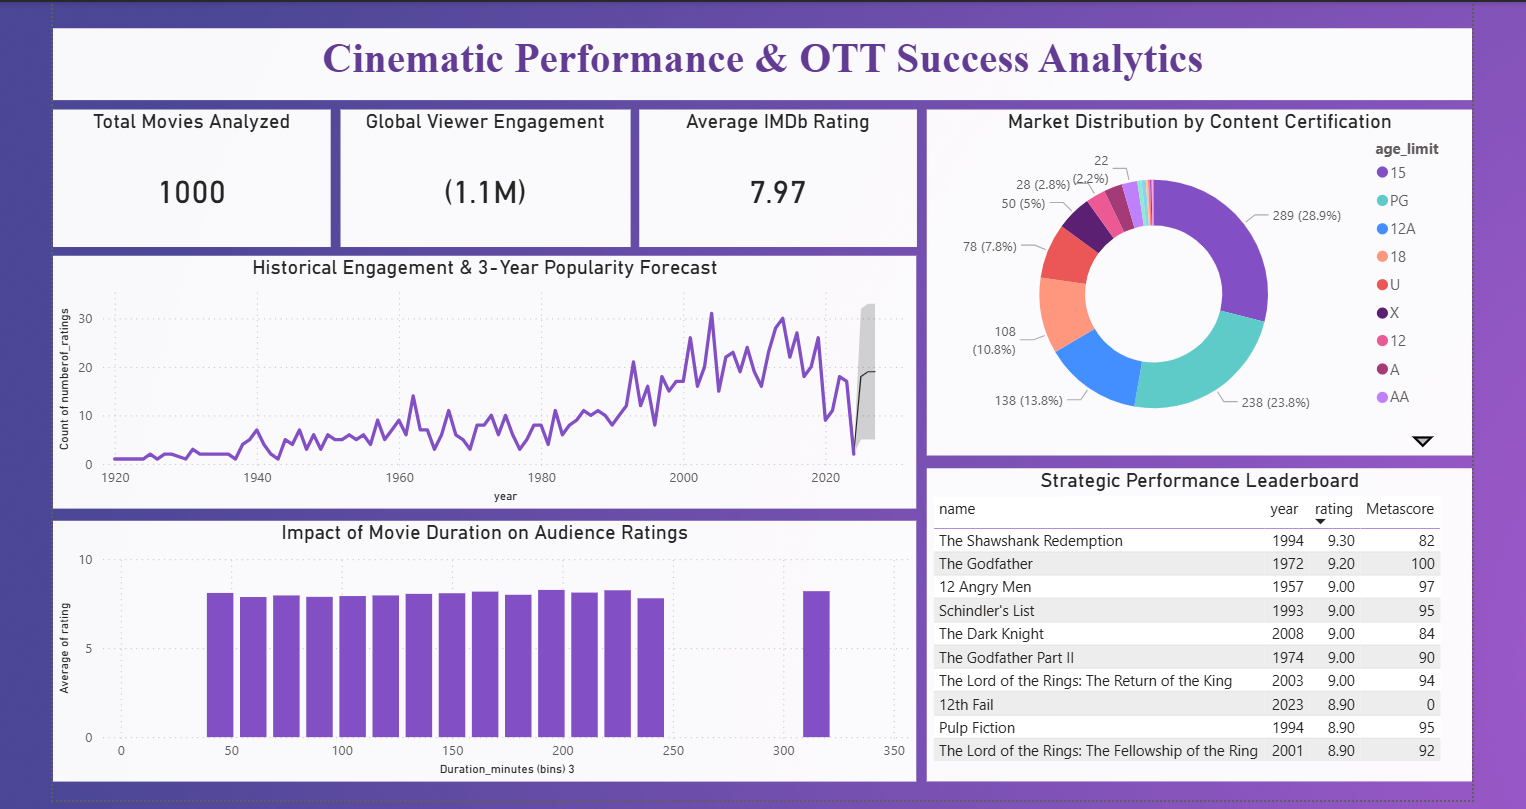

What the dashboard file says about the page in this screenshot:
{"tool":"powerbi","page":{"name":"Page 1","canvas":[1280,720],"ordinal":0},"visuals":[{"type":"card","title":"Total Movies Analyzed","fields":{"Values":["CountNonNull(imdb_kaggle.rank)"]},"box":[0,97,250,124.4],"z":0},{"type":"card","title":"Average IMDb Rating","fields":{"Values":["Avg(imdb_kaggle.rating)"]},"box":[528.7,97,250,124.4],"z":1000},{"type":"lineClusteredColumnComboChart","title":"Impact of Movie Duration on Audience Ratings","fields":{"Y":["Avg(imdb_kaggle.rating)"],"Category":["imdb_kaggle.Duration_minutes (bins) 3"]},"box":[0,467.7,778.7,235.1],"z":2000},{"type":"lineChart","title":"  Historical Engagement & 3-Year Popularity Forecast","fields":{"Category":["imdb_kaggle.year"],"Y":["CountNonNull(imdb_kaggle.numberof_ratings)"]},"box":[0,228.9,778.7,227.6],"z":3000},{"type":"tableEx","title":"Strategic Performance Leaderboard","fields":{"Values":["imdb_kaggle.name","imdb_kaggle.year","imdb_kaggle.rating","imdb_kaggle.Metascore"]},"box":[787.4,420.5,492.6,282.4],"z":4000},{"type":"donutChart","title":"Market Distribution by Content Certification","fields":{"Category":["imdb_kaggle.age_limit"],"Y":["Count(imdb_kaggle.rank)"]},"box":[787.4,97,492.6,312.2],"z":4001},{"type":"textbox","box":[0,23.6,1280,64.7],"z":4002},{"type":"card","title":"Global Viewer Engagement","fields":{"Values":["Min(imdb_kaggle.numberof_ratings)"]},"box":[258.7,97,261.2,124.4],"z":4003}]}

Visuals, with their boxes in screenshot pixels (x1, y1, x2, y2):
"Total Movies Analyzed" card: region(48, 108, 325, 246)
"Average IMDb Rating" card: region(635, 108, 912, 246)
"Impact of Movie Duration on Audience Ratings" lineClusteredColumnComboChart: region(48, 519, 912, 780)
"  Historical Engagement & 3-Year Popularity Forecast" lineChart: region(48, 254, 912, 507)
"Strategic Performance Leaderboard" tableEx: region(922, 467, 1469, 780)
"Market Distribution by Content Certification" donutChart: region(922, 108, 1469, 454)
textbox: region(48, 26, 1469, 98)
"Global Viewer Engagement" card: region(335, 108, 625, 246)
